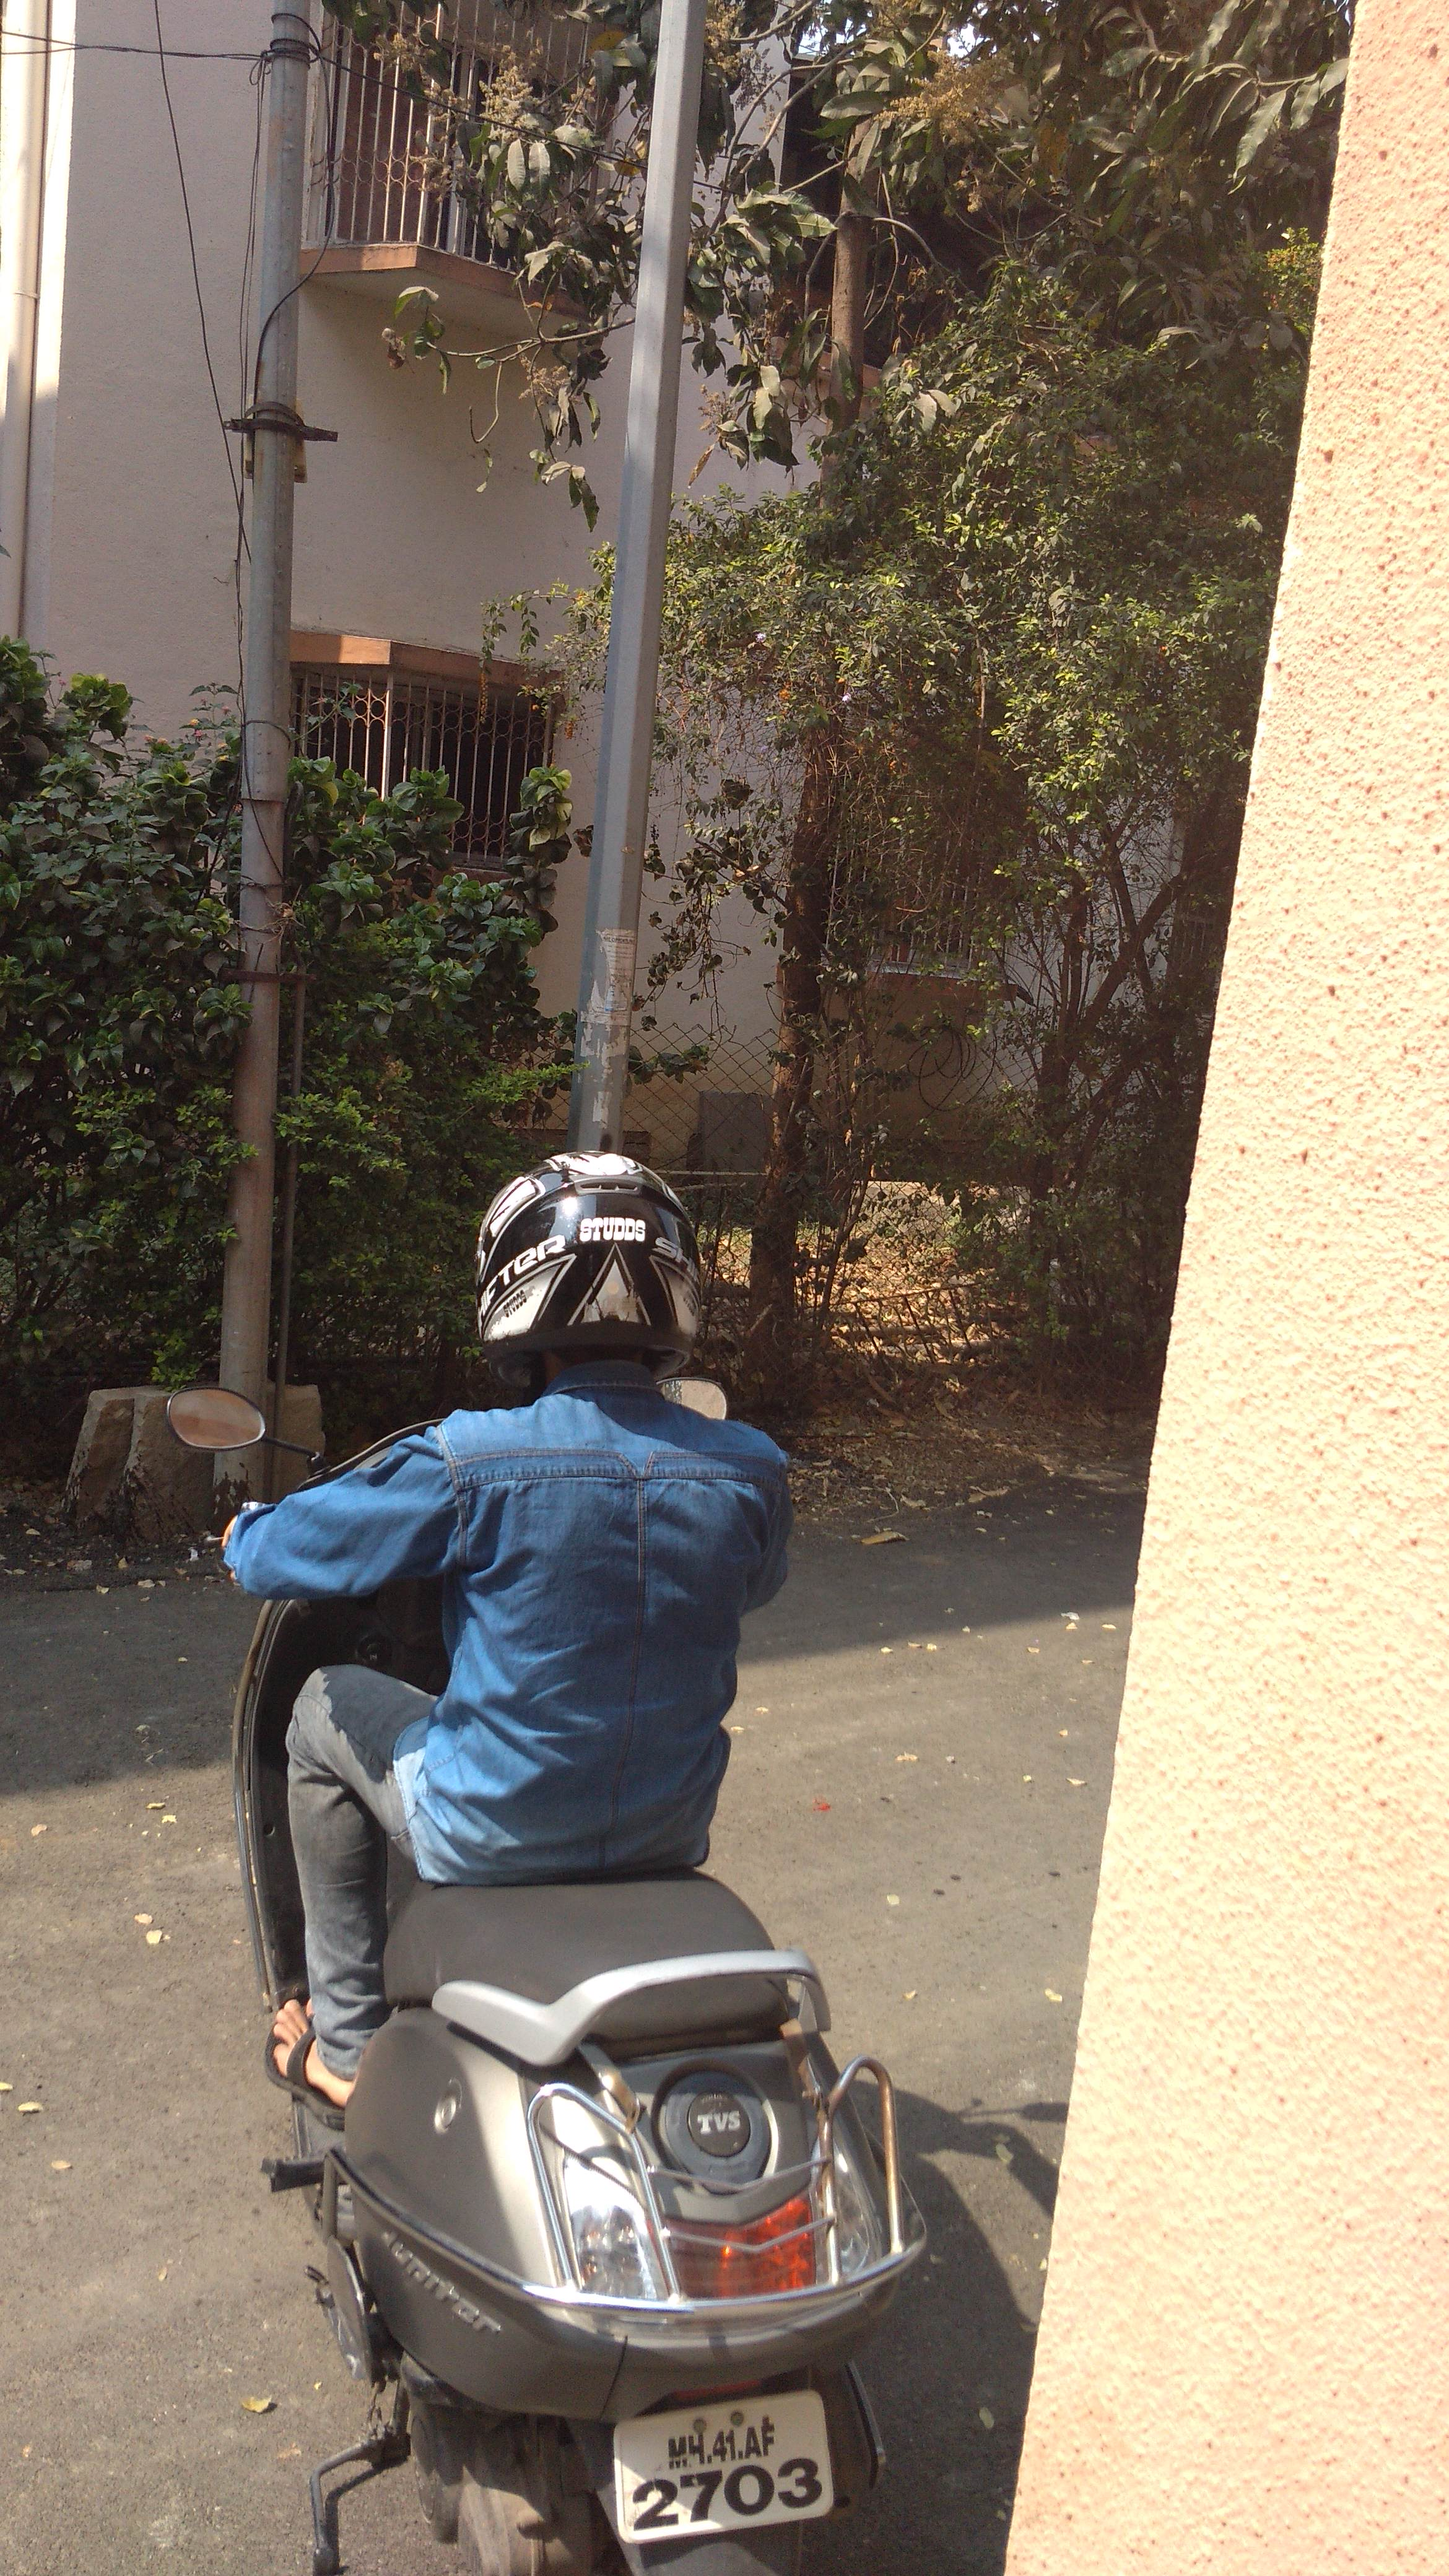helmet: (308, 1118, 844, 1936)
